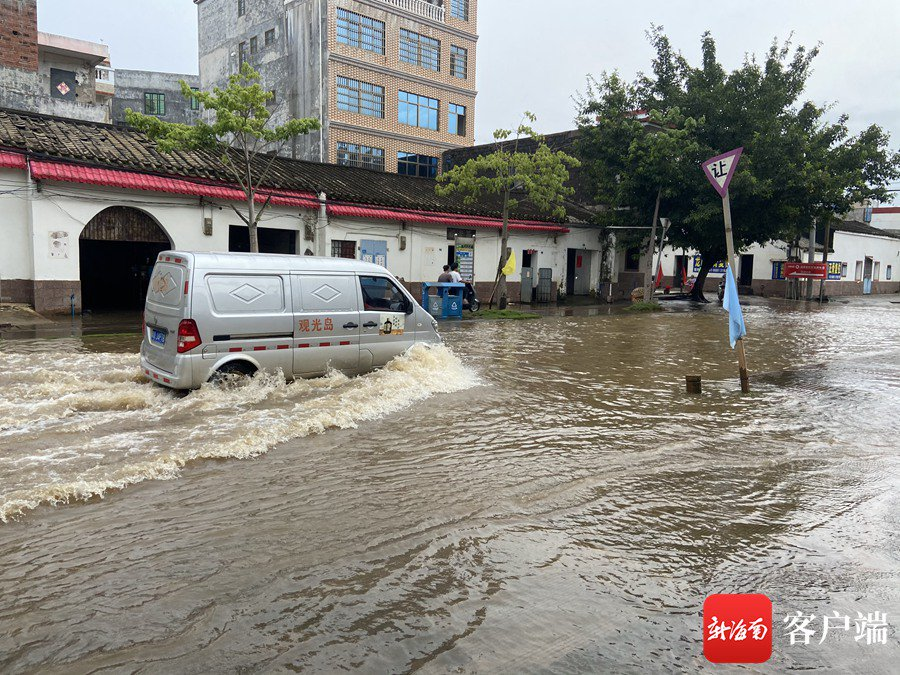puddle: (1, 322, 895, 675)
